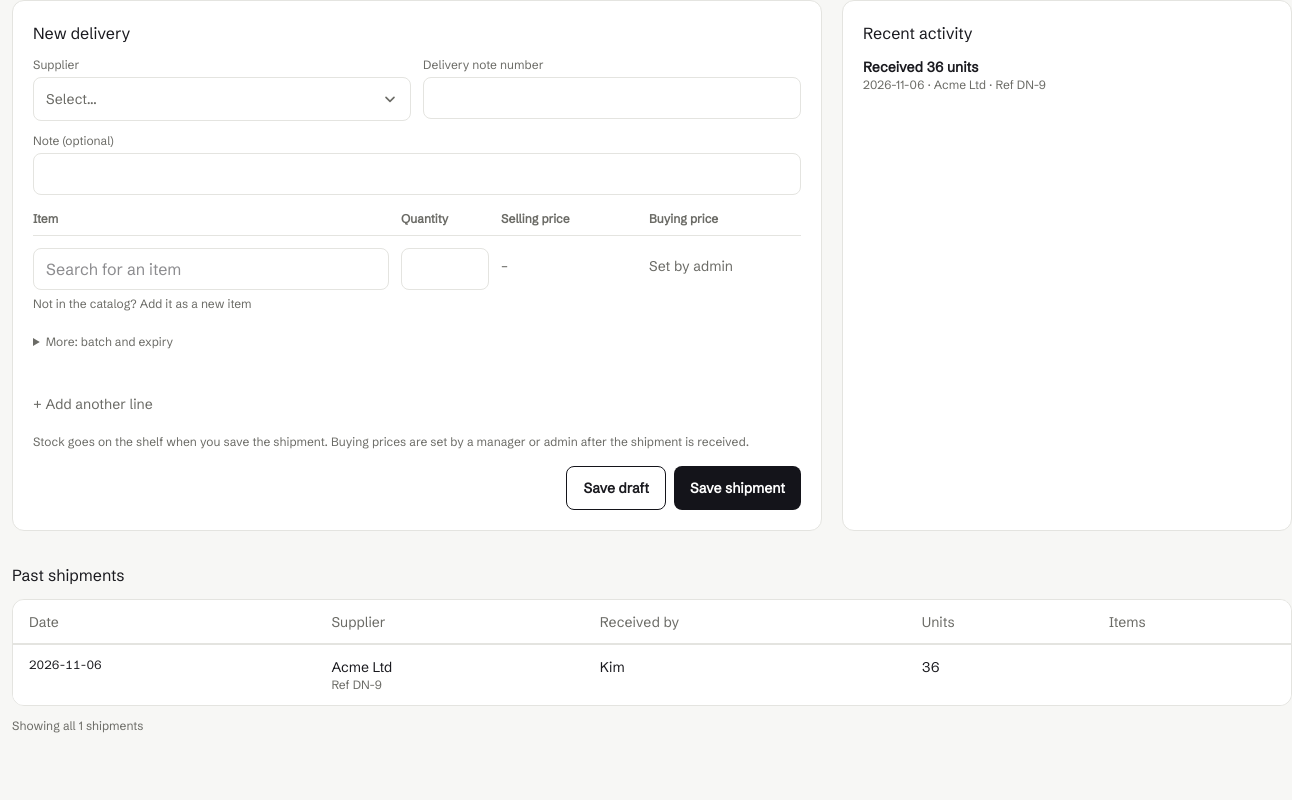
Test: Receive, new layout: the delivery form › still checks the quantity first, and shows the problem as an alert
Click the button "Save shipment" at (738, 488), box left=674, top=466, right=801, bottom=510
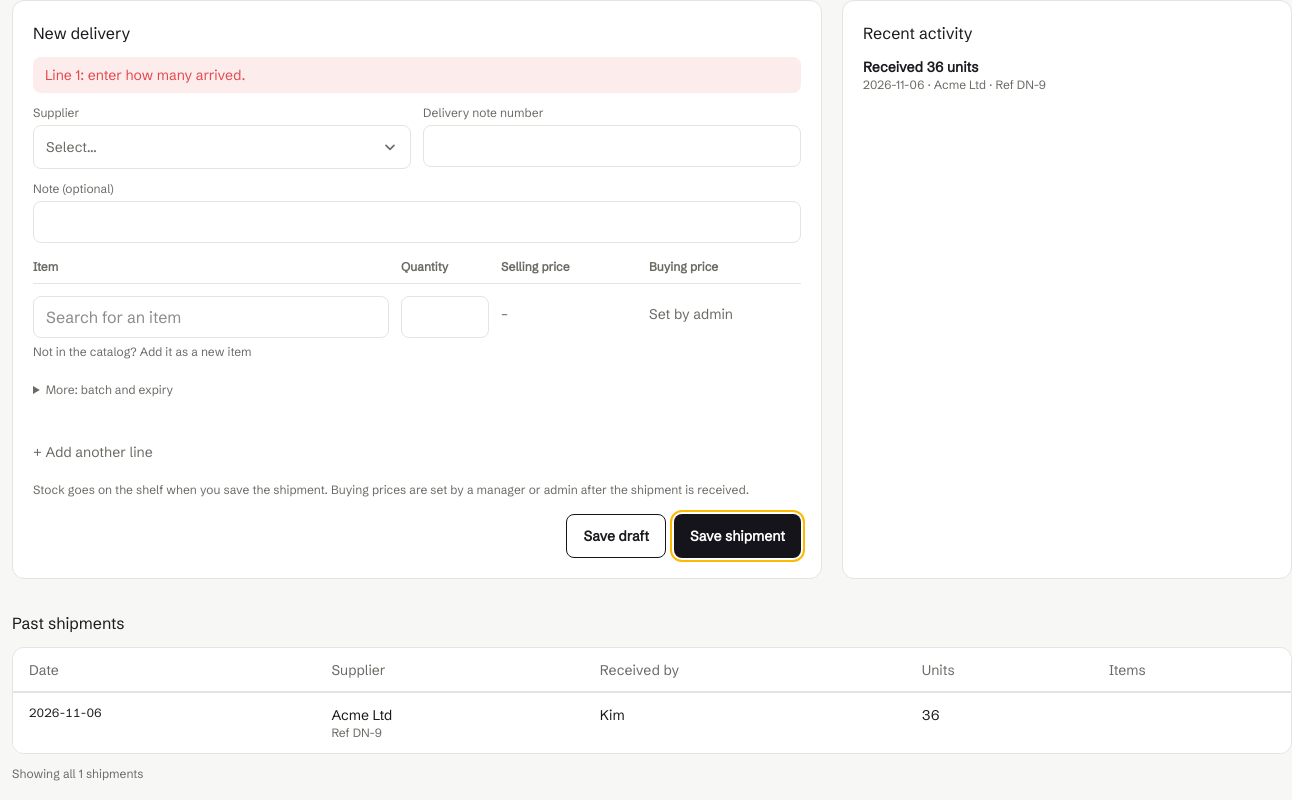
Expected: the message reads "Line 1: enter how many arrived.", left=45, top=66, right=246, bottom=84
